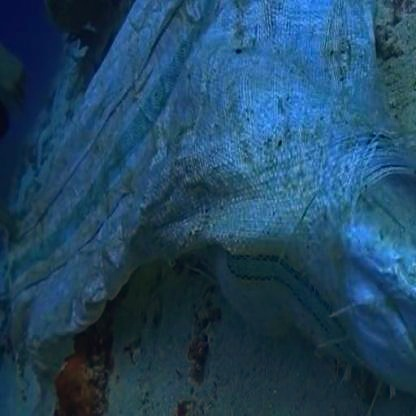plastic: (34, 67, 388, 321)
